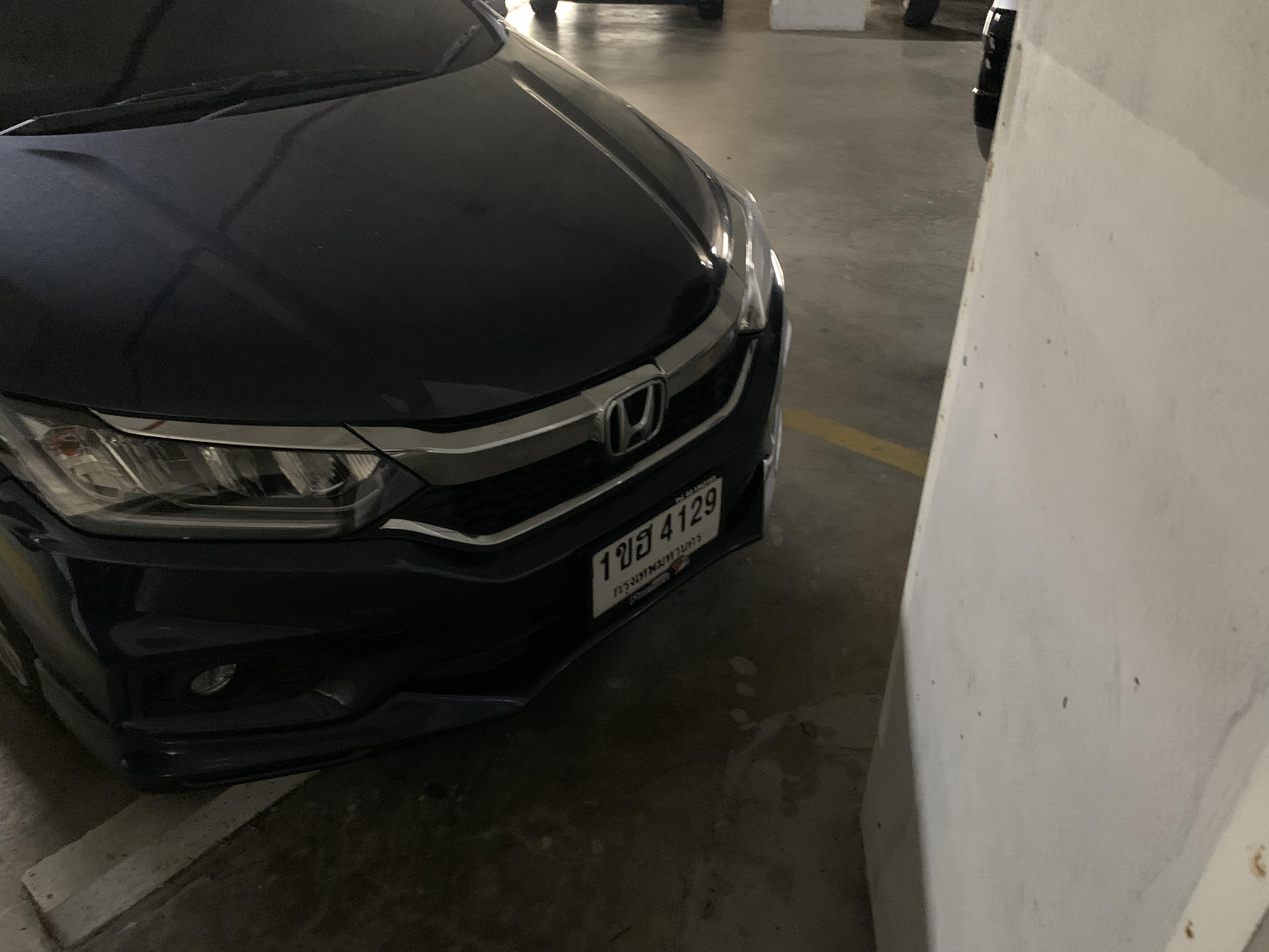license-plate: (571, 468, 732, 638)
